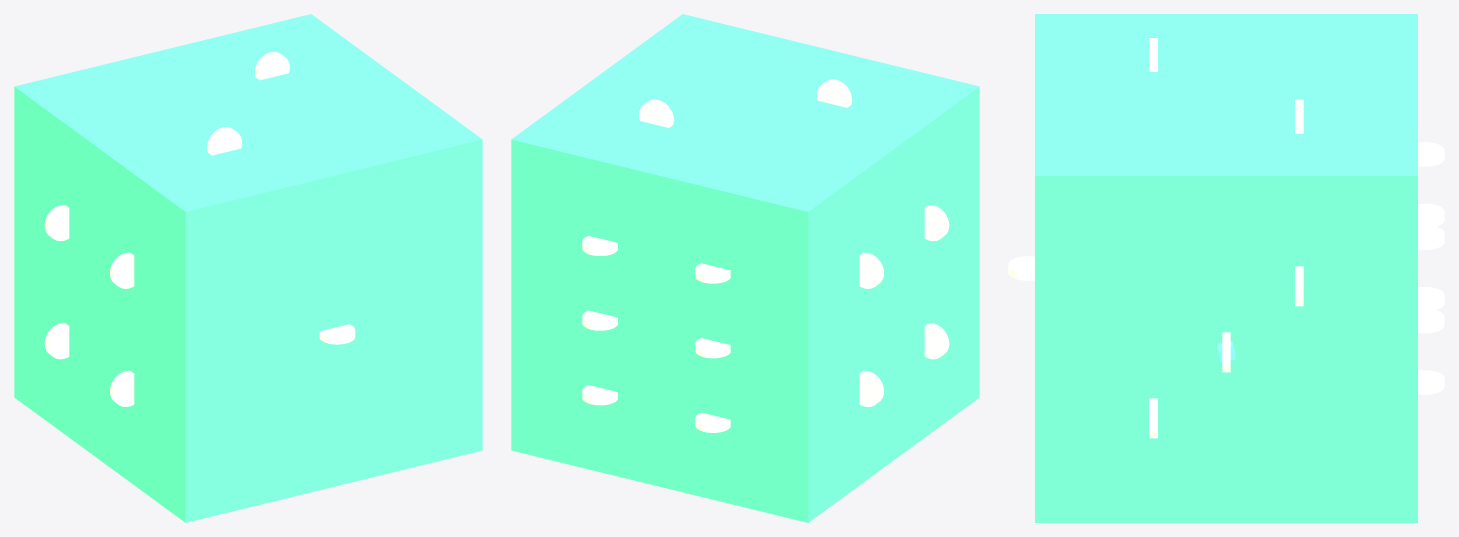
Rendered from Dice_Snake.gltf.
The picture shows the model from 3 angles, left to right: view 1: azimuth 30°, elevation 25°; view 2: azimuth 150°, elevation 25°; view 3: azimuth 270°, elevation 25°; orthographic projection. The views are drawn at different scales.
Parts seen in each view (by area): view 1: Dice_Snake_body, pip_4 (×4), pip_2 (×2), pip_1; view 2: Dice_Snake_body, pip_6 (×6), pip_4 (×4), pip_2 (×2); view 3: Dice_Snake_body, pip_6 (×6), pip_1.
Part boxes in pixels (x1=…): Dice_Snake_body: x1=14, y1=14, x2=482, y2=522; pip_4 (×4): x1=44, y1=205, x2=134, y2=406; pip_2 (×2): x1=207, y1=52, x2=289, y2=155; pip_1: x1=319, y1=324, x2=355, y2=344; Dice_Snake_body: x1=511, y1=14, x2=979, y2=522; pip_6 (×6): x1=582, y1=236, x2=730, y2=432; pip_4 (×4): x1=859, y1=205, x2=949, y2=406; pip_2 (×2): x1=639, y1=79, x2=851, y2=127; Dice_Snake_body: x1=1035, y1=14, x2=1417, y2=522; pip_6 (×6): x1=1418, y1=142, x2=1444, y2=394; pip_1: x1=1008, y1=256, x2=1034, y2=280.
Size of the model in its own units: 2.28 by 2.28 by 2.28.
